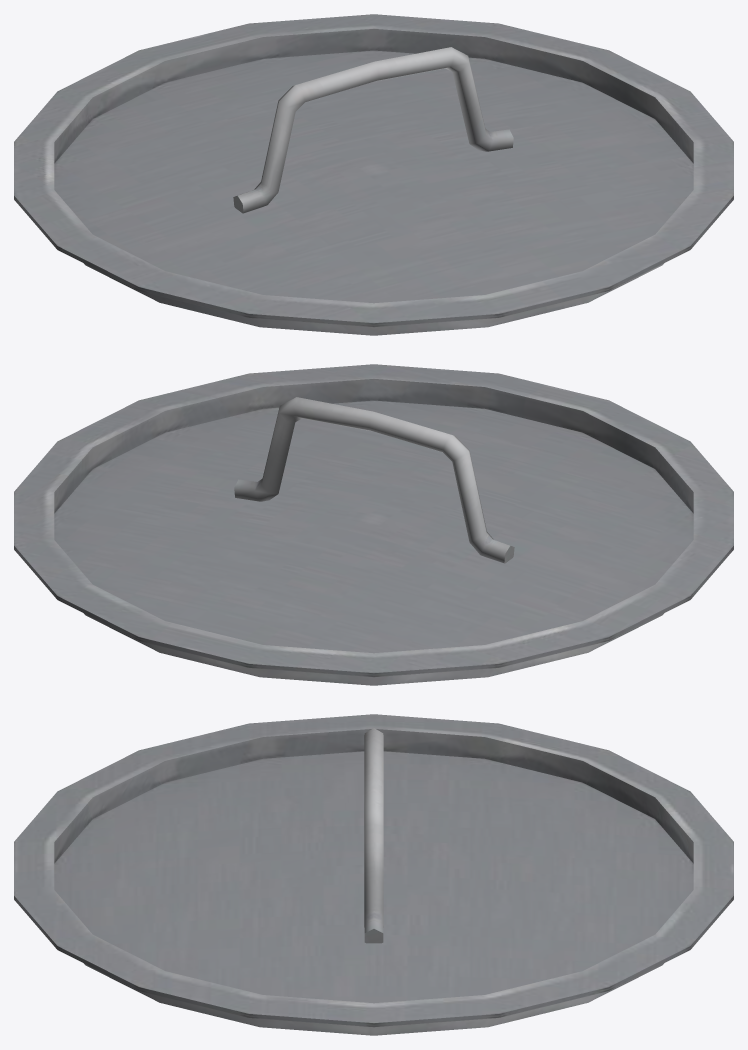
The model's file is SM_Pot_Lid_04.glb.
The picture shows the model from 3 angles, top to bottom: view 1: azimuth 30°, elevation 25°; view 2: azimuth 150°, elevation 25°; view 3: azimuth 270°, elevation 25°; orthographic projection.
Visible parts, largest first — view 1: SM_Pot_Lid_04; view 2: SM_Pot_Lid_04; view 3: SM_Pot_Lid_04.
Part boxes in pixels (left/top/right/bottom): SM_Pot_Lid_04: left=14, top=14, right=733, bottom=335; SM_Pot_Lid_04: left=14, top=364, right=733, bottom=685; SM_Pot_Lid_04: left=14, top=714, right=733, bottom=1035.
Size of the model in its own units: 0.277 by 0.0557 by 0.2728.
1 material, 1 textured.
